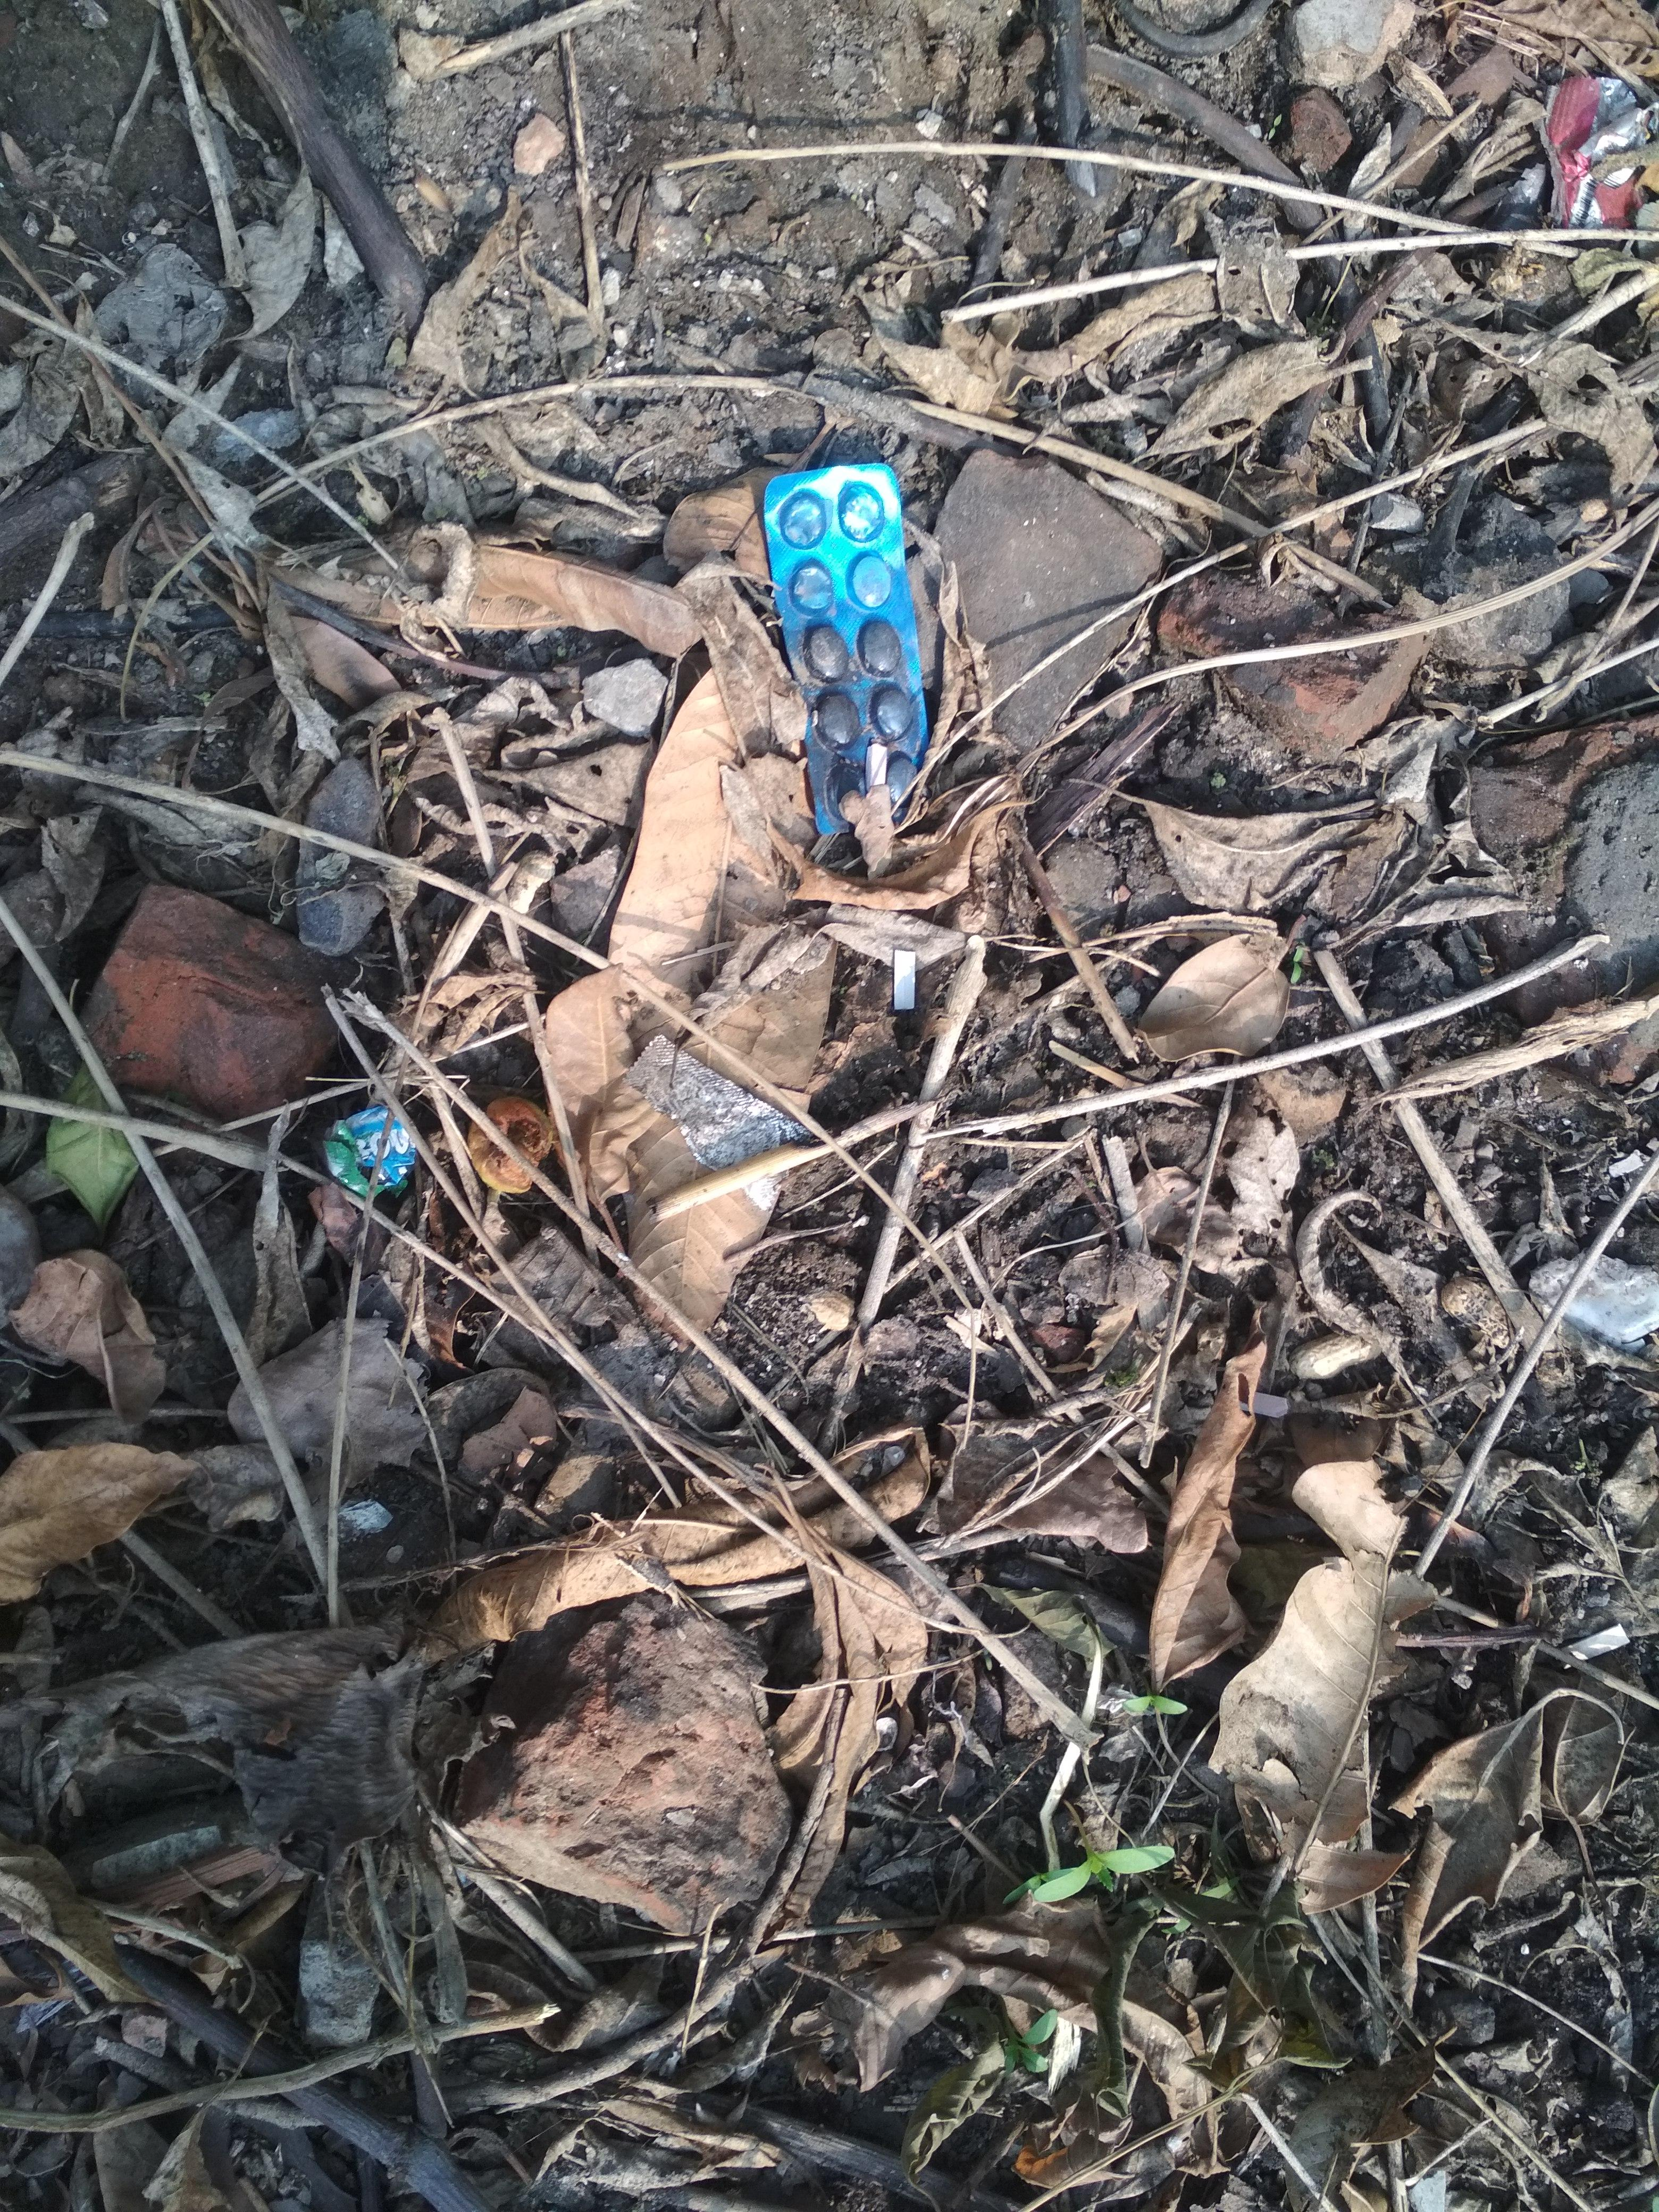organic: (746, 444, 948, 909)
